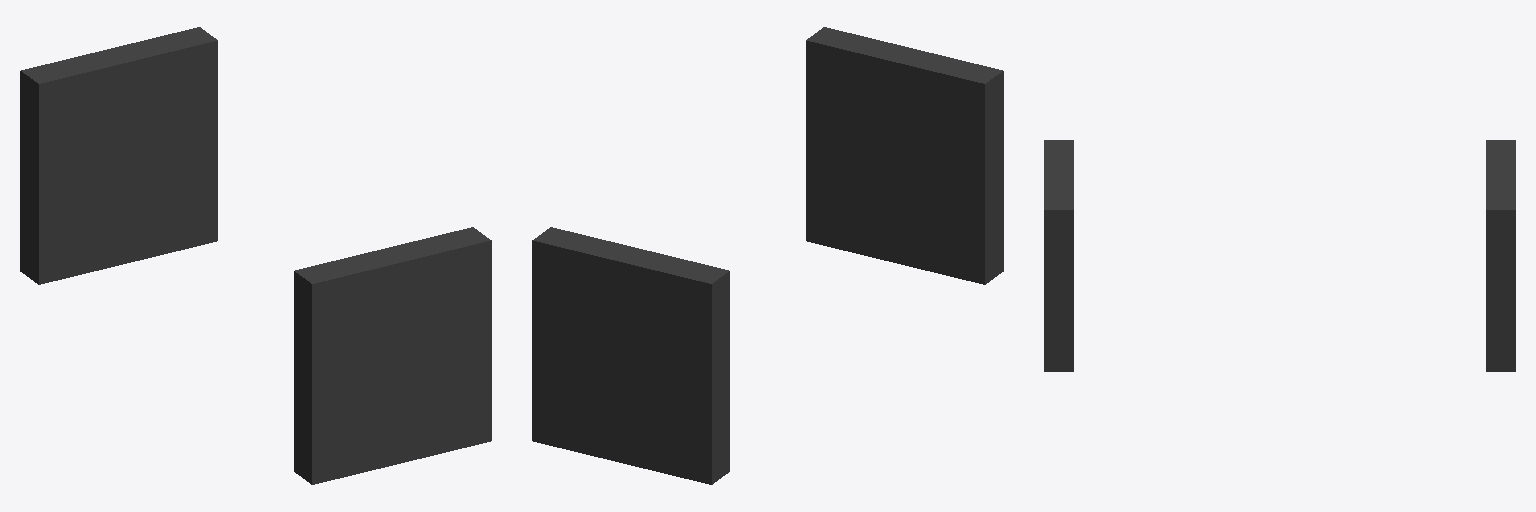
robot.urdf — wx200:
<?xml version="1.0" ?>
<!-- =================================================================================== -->
<!-- |    This document was autogenerated by xacro from urdf/origin.xacro              | -->
<!-- |    EDITING THIS FILE BY HAND IS NOT RECOMMENDED                                 | -->
<!-- =================================================================================== -->
<robot
   name="wx200">
  <link name="robot_arm">
    <visual>
      <origin rpy="0 0 -1.570796325" xyz="0 0 0"/>
      <geometry>
        <mesh filename="meshes/base.stl" scale="1 1 1"/>
      </geometry>
      <material
        name="">
        <color
          rgba="0.3 0.3 0.3 1" />
      </material>
    </visual>
    <collision>
      <origin rpy="0 0 -1.570796325" xyz="0 0 0"/>
      <geometry>
        <mesh filename="meshes/base.stl" scale="1 1 1"/>
      </geometry>
    </collision>
    <inertial>
      <origin rpy="0 0 1.570796325" xyz="-0.0381747000 0.0006478630 0.0193458000"/>
      <mass value="0.540142"/>
      <inertia ixx="0.0021190000" iyy="0.0006925000" izz="0.0025280000" ixy="-0.0000172100" ixz="0.0000006389" iyz="0.0000461200"/>
    </inertial>
  </link>
  <joint name="waist" type="revolute">
    <axis xyz="0 0 1"/>
    <limit effort="8" lower="-3.14158265" upper="3.14158265" velocity="3.14159265"/>
    <origin rpy="0 0 0" xyz="0 0 0.072"/>
    <parent link="robot_arm"/>
    <child link="shoulder_link"/>
    <dynamics friction="0.1"/>
  </joint>
  <transmission name="trans_waist">
    <type>transmission_interface/SimpleTransmission</type>
    <joint name="waist">
      <hardwareInterface>hardware_interface/EffortJointInterface</hardwareInterface>
    </joint>
    <actuator name="waist_motor">
      <mechanicalReduction>1</mechanicalReduction>
    </actuator>
  </transmission>
  <link name="shoulder_link">
    <visual>
      <origin rpy="0 0 1.570796325" xyz="0 0 -0.003"/>
      <geometry>
        <mesh filename="meshes/wx200_2_shoulder.stl" scale="0.001 0.001 0.001"/>
      </geometry>
      <material
        name="">
        <color
          rgba="0.3 0.3 0.3 1" />
      </material>
    </visual>
    <collision>
      <origin rpy="0 0 1.570796325" xyz="0 0 -0.003"/>
      <geometry>
        <mesh filename="meshes/wx200_2_shoulder.stl" scale="0.001 0.001 0.001"/>
      </geometry>
    </collision>
    <inertial>
      <origin rpy="0 0 1.570796325" xyz="0.0000223210 0.0000414608 0.0066287000"/>
      <mass value="0.480879"/>
      <inertia ixx="0.0003790000" iyy="0.0005557000" izz="0.0005889000" ixy="0.0000000022" ixz="-0.0000003561" iyz="0.0000012247"/>
    </inertial>
  </link>
  <joint name="shoulder" type="revolute">
    <axis xyz="0 1 0"/>
    <limit effort="18" lower="-1.88496" upper="1.97222" velocity="3.14159265"/>
    <origin rpy="0 0 0" xyz="0 0 0.03865"/>
    <parent link="shoulder_link"/>
    <child link="upper_arm_link"/>
    <dynamics friction="0.1"/>
  </joint>
  <transmission name="trans_shoulder">
    <type>transmission_interface/SimpleTransmission</type>
    <joint name="shoulder">
      <hardwareInterface>hardware_interface/EffortJointInterface</hardwareInterface>
    </joint>
    <actuator name="shoulder_motor">
      <mechanicalReduction>1</mechanicalReduction>
    </actuator>
  </transmission>
  <link name="upper_arm_link">
    <visual>
      <origin rpy="0 0 1.570796325" xyz="0 0 0"/>
      <geometry>
        <mesh filename="meshes/wx200_3_upper_arm.stl" scale="0.001 0.001 0.001"/>
      </geometry>
      <material
        name="">
        <color
          rgba="0.3 0.3 0.3 1" />
      </material>
    </visual>
    <collision>
      <origin rpy="0 0 1.570796325" xyz="0 0 0"/>
      <geometry>
        <mesh filename="meshes/wx200_3_upper_arm.stl" scale="0.001 0.001 0.001"/>
      </geometry>
    </collision>
    <inertial>
      <origin rpy="0 0 1.570796325" xyz="0.0119707000 -0.0001179264 0.1394290000"/>
      <mass value="0.297781"/>
      <inertia ixx="0.0017100000" iyy="0.0016310000" izz="0.0001482000" ixy="-0.0000011433" ixz="0.0000021161" iyz="0.0002135000"/>
    </inertial>
  </link>
  <joint name="elbow" type="revolute">
    <axis xyz="0 1 0"/>
    <limit effort="13" lower="-1.88496" upper="1.62316" velocity="3.14159265"/>
    <origin rpy="0 0 0" xyz="0.05 0 0.2"/>
    <parent link="upper_arm_link"/>
    <child link="forearm_link"/>
    <dynamics friction="0.1"/>
  </joint>
  <transmission name="trans_elbow">
    <type>transmission_interface/SimpleTransmission</type>
    <joint name="elbow">
      <hardwareInterface>hardware_interface/EffortJointInterface</hardwareInterface>
    </joint>
    <actuator name="elbow_motor">
      <mechanicalReduction>1</mechanicalReduction>
    </actuator>
  </transmission>
  <link name="forearm_link">
    <visual>
      <origin rpy="0 0 1.570796325" xyz="0 0 0"/>
      <geometry>
        <mesh filename="meshes/wx200_4_forearm.stl" scale="0.001 0.001 0.001"/>
      </geometry>
      <material
        name="">
        <color
          rgba="0.3 0.3 0.3 1" />
      </material>
    </visual>
    <collision>
      <origin rpy="0 0 1.570796325" xyz="0 0 0"/>
      <geometry>
        <mesh filename="meshes/wx200_4_forearm.stl" scale="0.001 0.001 0.001"/>
      </geometry>
    </collision>
    <inertial>
      <origin rpy="0 0 1.570796325" xyz="0.1211920000 -0.0001238123 0.0000000000"/>
      <mass value="0.283651"/>
      <inertia ixx="0.0011850000" iyy="0.0000682900" izz="0.0012060000" ixy="-0.0000024317" ixz="0.0000000000" iyz="0.0000000000"/>
    </inertial>
  </link>
  <joint name="wrist_angle" type="revolute">
    <axis xyz="0 1 0"/>
    <limit effort="5" lower="-1.74533" upper="2.14675" velocity="3.14159265"/>
    <origin rpy="0 0 0" xyz="0.2 0 0"/>
    <parent link="forearm_link"/>
    <child link="wrist_link"/>
    <dynamics friction="0.1"/>
  </joint>
  <transmission name="trans_wrist_angle">
    <type>transmission_interface/SimpleTransmission</type>
    <joint name="wrist_angle">
      <hardwareInterface>hardware_interface/EffortJointInterface</hardwareInterface>
    </joint>
    <actuator name="wrist_angle_motor">
      <mechanicalReduction>1</mechanicalReduction>
    </actuator>
  </transmission>
  <link name="wrist_link">
    <visual>
      <origin rpy="0 0 1.570796325" xyz="0 0 0"/>
      <geometry>
        <mesh filename="meshes/wx200_5_wrist.stl" scale="0.001 0.001 0.001"/>
      </geometry>
      <material
        name="">
        <color
          rgba="0.3 0.3 0.3 1" />
      </material>
    </visual>
    <collision>
      <origin rpy="0 0 1.570796325" xyz="0 0 0"/>
      <geometry>
        <mesh filename="meshes/wx200_5_wrist.stl" scale="0.001 0.001 0.001"/>
      </geometry>
    </collision>
    <inertial>
      <origin rpy="0 0 1.570796325" xyz="0.0423600000 -0.0000106630 0.0105770000"/>
      <mass value="0.084957"/>
      <inertia ixx="0.0000308200" iyy="0.0000282200" izz="0.0000315200" ixy="0.0000000191" ixz="0.0000000023" iyz="0.0000025481"/>
    </inertial>
  </link>
  <joint name="wrist_rotate" type="revolute">
    <axis xyz="1 0 0"/>
    <limit effort="1" lower="-3.14158265" upper="3.14158265" velocity="3.14159265"/>
    <origin rpy="0 0 0" xyz="0.065 0 0"/>
    <parent link="wrist_link"/>
    <child link="gripper_link"/>
    <dynamics friction="0.1"/>
  </joint>
  <transmission name="trans_wrist_rotate">
    <type>transmission_interface/SimpleTransmission</type>
    <joint name="wrist_rotate">
      <hardwareInterface>hardware_interface/EffortJointInterface</hardwareInterface>
    </joint>
    <actuator name="wrist_rotate_motor">
      <mechanicalReduction>1</mechanicalReduction>
    </actuator>
  </transmission>
  <link name="gripper_link">
    <visual>
      <origin rpy="0 0 1.570796325" xyz="-0.02 0 0"/>
      <geometry>
        <mesh filename="meshes/wx200_6_gripper.stl" scale="0.001 0.001 0.001"/>
      </geometry>
      <material
        name="">
        <color
          rgba="0.3 0.3 0.3 1" />
      </material>
    </visual>
    <collision>
      <origin rpy="0 0 1.570796325" xyz="-0.02 0 0"/>
      <geometry>
        <mesh filename="meshes/wx200_6_gripper.stl" scale="0.001 0.001 0.001"/>
      </geometry>
    </collision>
    <inertial>
      <origin rpy="0 0 1.570796325" xyz="0.0216310000 0.0000002516 0.0114100000"/>
      <mass value="0.072885"/>
      <inertia ixx="0.0000253700" iyy="0.0000183600" izz="0.0000167400" ixy="0.0000000000" ixz="0.0000000000" iyz="0.0000004340"/>
    </inertial>
  </link>
  <joint name="ee_arm" type="fixed">
    <axis xyz="1 0 0"/>
    <origin rpy="0 0 0" xyz="0.043 0 0"/>
    <parent link="gripper_link"/>
    <child link="ee_arm_link"/>
  </joint>
  <link name="ee_arm_link">
    <inertial>
      <mass value="0.001"/>
      <inertia ixx="0.001" iyy="0.001" izz="0.001" ixy="0" ixz="0" iyz="0"/>
    </inertial>
  </link>
  <link
    name="gripper_bar">
    <inertial>
      <origin
        xyz="0.0077886 -0.00065929 0.0023098"
        rpy="0 0 0" />
      <mass
        value="0.030878" />
      <inertia
        ixx="0.1"
        ixy="0"
        ixz="0"
        iyy="0.1"
        iyz="0"
        izz="0.1" />
    </inertial>
    <visual>
      <origin
        xyz="0 0 0"
        rpy="0 0 0" />
      <geometry>
        <mesh
          filename="meshes/gripper_bar.STL" />
      </geometry>
      <material
        name="">
        <color
          rgba="0.3 0.3 0.3 1" />
      </material>
    </visual>
    <collision>
      <origin
        xyz="0 0 0"
        rpy="0 0 0" />
      <geometry>
        <mesh
          filename="meshes/gripper_bar.STL" />
      </geometry>
    </collision>
  </link>
  <joint
    name="g_par2motor"
    type="fixed">
    <origin
      xyz="0.004 0 0"
      rpy="0 0 0" />
    <parent
      link="ee_arm_link" />
    <child
      link="gripper_bar" />
    <axis
      xyz="0 0 0" />
  </joint>
  <link
    name="left_gripper">
    <contact>
      <friction_anchor/>
      <stiffness value="30000.0"/>
      <damping value="1000.0"/>
      <spinning_friction value="0.1"/>
      <lateral_friction value="1.0"/>
    </contact>
    <inertial>
      <origin
        xyz="-0.01704 0.009464 0"
        rpy="0 0 0" />
      <mass
        value="0.013875" />
      <inertia
        ixx="0.1"
        ixy="0"
        ixz="0"
        iyy="0.1"
        iyz="0"
        izz="0.1" />
    </inertial>
    <visual>
      <origin
        xyz="-0.028 0 0"
        rpy="0 0 0" />
      <geometry>
        <box size="0.028 0.005 0.03"/>
      </geometry>
      <material
        name="">
        <color
          rgba="0.3 0.3 0.3 1" />
      </material>
      <material
        name="">
        <color
          rgba="0.3 0.3 0.3 1" />
      </material>
    </visual>
    <collision>
      <origin
        xyz="-0.028 0 0"
        rpy="0 0 0" />
      <geometry>
        <box size="0.028 0.005 0.03"/>
      </geometry>
      <material
        name="">
        <color
          rgba="0.3 0.3 0.3 1" />
      </material>
    </collision>
  </link>
  <joint
    name="left_gripper2bar"
    type="prismatic">
    <origin
      xyz="0.018 0.036991 0"
      rpy="0 0 -3.1416" />
    <parent
      link="gripper_bar" />
    <child
      link="left_gripper" />
    <axis
      xyz="0 1 0" />
    <limit
      lower="0"
      upper="0.03202"
      effort="20"
      velocity="0.2" />
  </joint>
  <link
    name="right_gripper">
    <contact>
      <friction_anchor/>
      <stiffness value="30000.0"/>
      <damping value="1000.0"/>
      <spinning_friction value="0.1"/>
      <lateral_friction value="1.0"/>
    </contact>
    <inertial>
      <origin
        xyz="0.01704 0.009464 0"
        rpy="0 0 0" />
      <mass
        value="0.013875" />
      <inertia
        ixx="0.1"
        ixy="0"
        ixz="0"
        iyy="0.1"
        iyz="0"
        izz="0.1" />
    </inertial>
    <visual>
      <origin
        xyz="-0.028 0 0"
        rpy="0 0 0" />
      <geometry>
        <box size="0.028 0.005 0.03"/>
      </geometry>
      <material
        name="">
        <color
          rgba="0.3 0.3 0.3 1" />
      </material>
    </visual>
    <collision>
      <origin
        xyz="-0.028 0 0"
        rpy="0 0 0" />
      <geometry>
        <box size="0.028 0.005 0.03"/>
      </geometry>
    </collision>
  </link>
  <joint
    name="right_gripper2bar"
    type="prismatic">
    <origin
      xyz="0.018 -0.036991 0"
      rpy="0 3.1416 0" />
    <parent
      link="gripper_bar" />
    <child
      link="right_gripper" />
    <axis
      xyz="0 1 0" />
    <limit
      lower="0"
      upper="0.03202"
      effort="20"
      velocity="0.2" />
  </joint>
  <joint name="ee_gripper" type="fixed">
    <axis xyz="1 0 0"/>
    <origin rpy="0 0 0" xyz="0.06615 0 0"/>
    <parent link="gripper_bar"/>
    <child link="ee_gripper_link"/>
  </joint>
  <link name="ee_gripper_link">
    <inertial>
      <mass value="0"/>
      <inertia ixx="0.001" iyy="0.001" izz="0.001" ixy="0" ixz="0" iyz="0"/>
    </inertial>
  </link>
</robot>

--- What the picture shows (computed from the rendered views, not written in the file) ---
3 views of the same robot in one strip: view 1: azimuth 30°, elevation 25°; view 2: azimuth 150°, elevation 25°; view 3: azimuth 270°, elevation 25° (orthographic).
Robot: wx200 — 11 links, 10 joints (5 revolute, 2 prismatic, 3 fixed); root link robot_arm; default pose: all joints at 0.
Visible links, largest first — view 1: left_gripper, right_gripper; view 2: right_gripper, left_gripper; view 3: left_gripper, right_gripper.
Link boxes in pixels (box(x1,y1,x2,y2)): left_gripper: box(20, 27, 217, 284); right_gripper: box(294, 227, 491, 484); right_gripper: box(806, 27, 1003, 284); left_gripper: box(532, 227, 729, 484); left_gripper: box(1486, 140, 1515, 371); right_gripper: box(1044, 140, 1073, 371).
Bounding box of the posed robot: 0.028 × 0.079 × 0.03 m (x, y, z).
Meshes: 7 distinct files referenced, 0 mesh visuals loaded (none loaded); not drawn: 7 (reference not matched to a file when rendering).